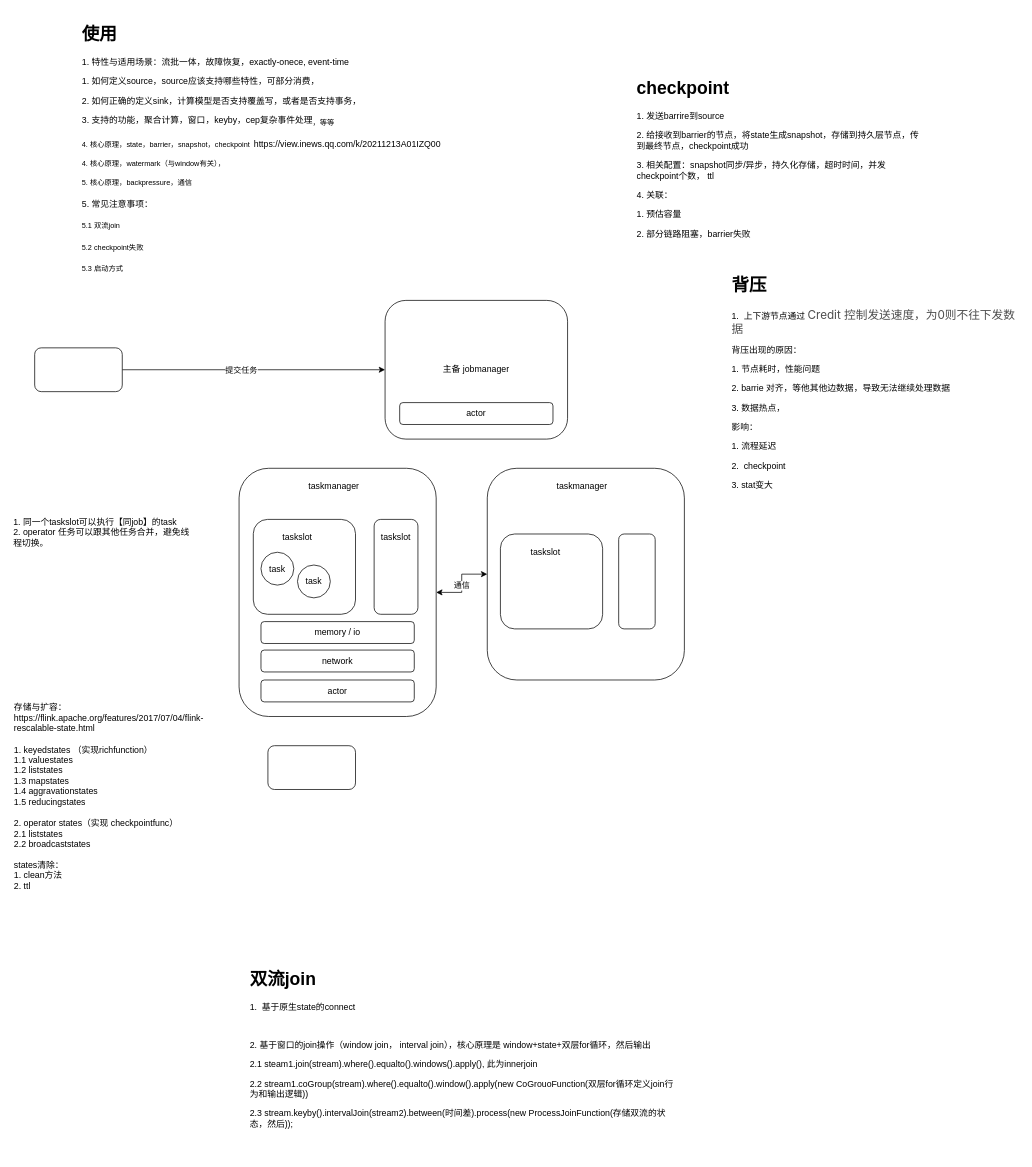
Image size: 1032x1167. Some labels were removed from this diagram. Here are the shapes that lost their labels. From the top down, the centre of each, then its label:
At point 78,369: "client".
At point 311,767: "状态存储".
